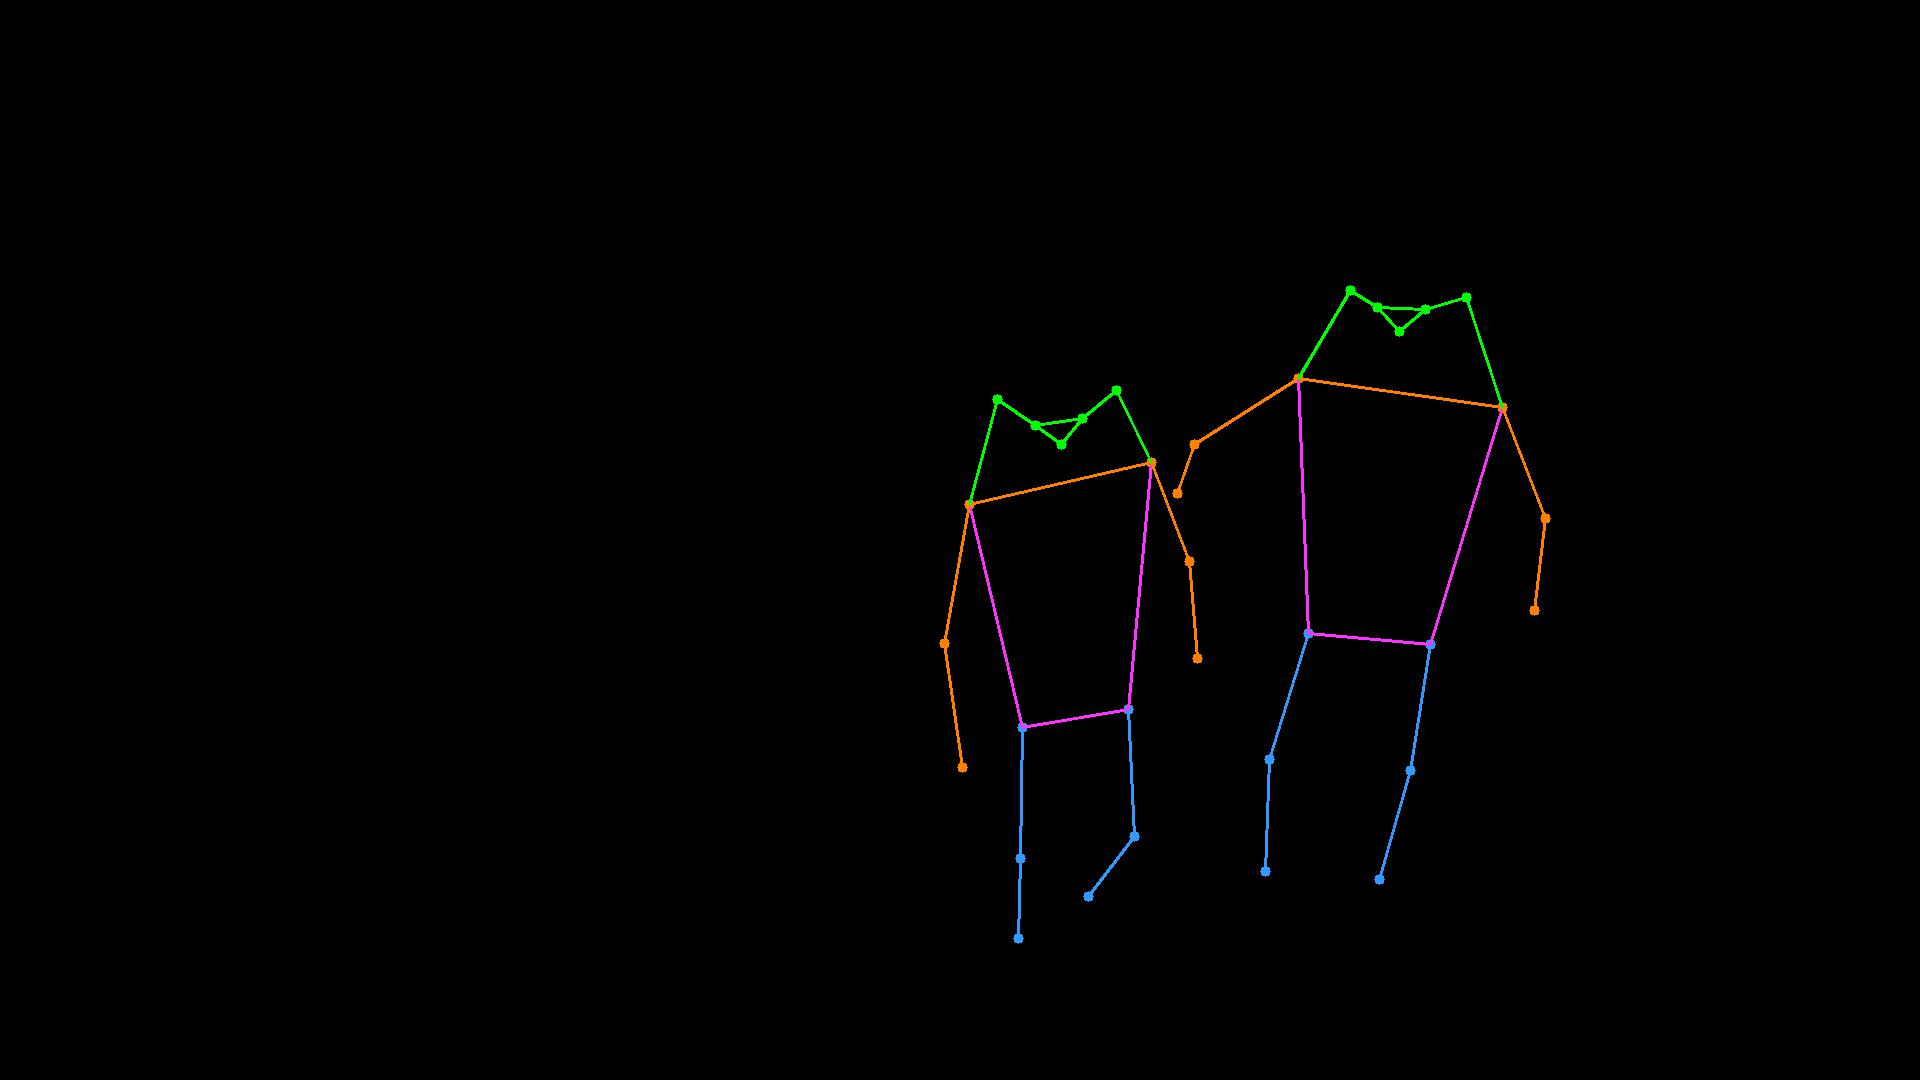normal: (865, 203, 1607, 981)
